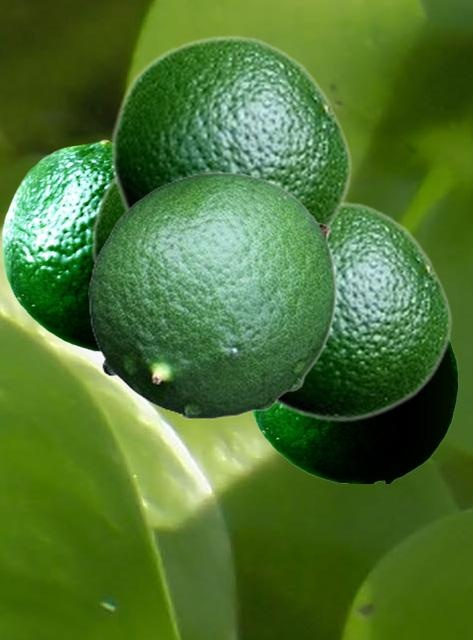calamansi: (88, 171, 336, 418), (109, 34, 352, 226), (275, 200, 452, 422), (250, 339, 457, 482), (2, 139, 110, 350), (90, 178, 123, 267)
